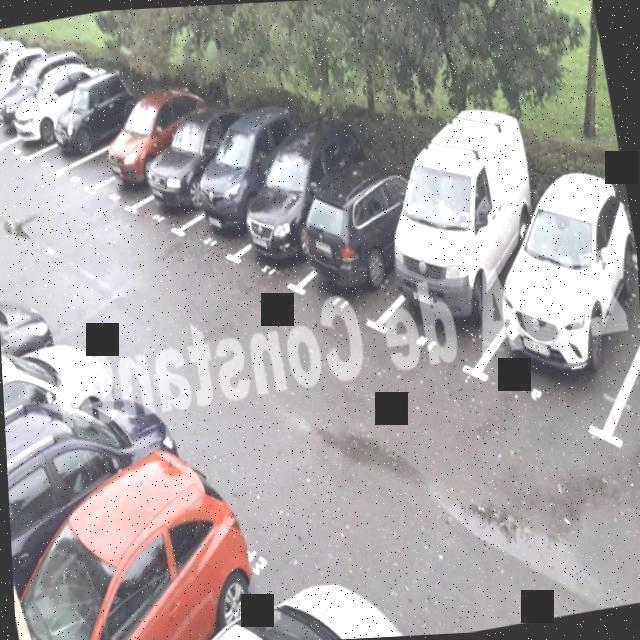space-empty: (61, 108, 157, 192)
space-occupied: (7, 449, 277, 640), (2, 346, 206, 575), (382, 171, 542, 364), (486, 217, 640, 404), (289, 155, 440, 325), (0, 307, 136, 477), (229, 142, 376, 285), (175, 127, 323, 254), (128, 127, 254, 232), (85, 119, 211, 213), (29, 96, 142, 174), (0, 86, 108, 164), (607, 237, 640, 455), (0, 74, 85, 158), (0, 62, 69, 149), (0, 59, 43, 137)
